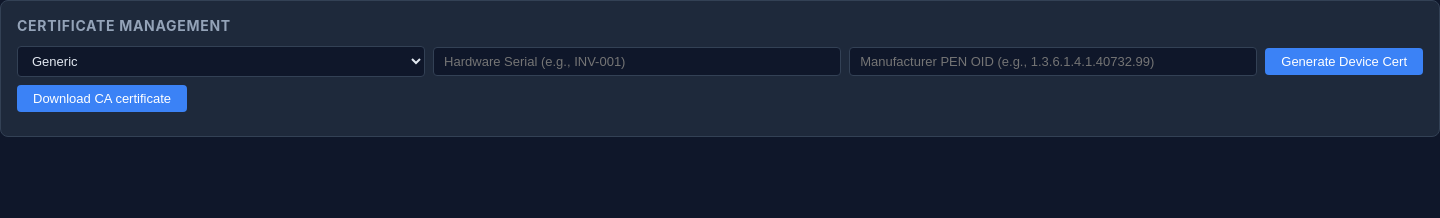
CertPanel › posts the typed hardware serial and renders the SFDI the server derived
Expected: the dropdown with id "deviceType" is enabled, [17,46,425,77]
In the field with id "hwSerial": (637, 62) [433,47,841,76], type "PW-INV-001"
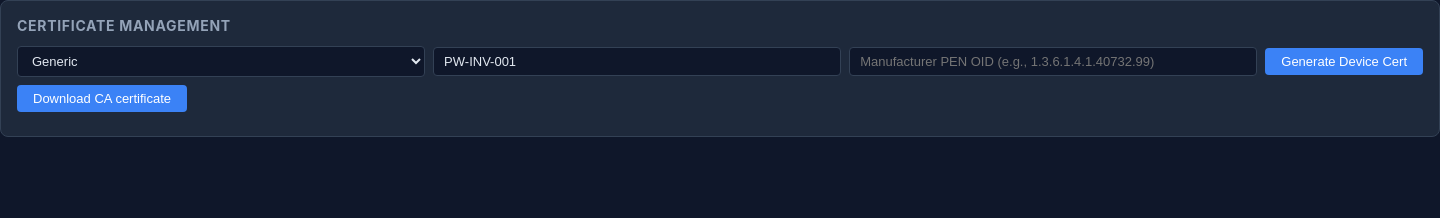
In the field with id "hwType": (1053, 62) [849,47,1257,76], type "1.3.6.1.4.1.40732.99"
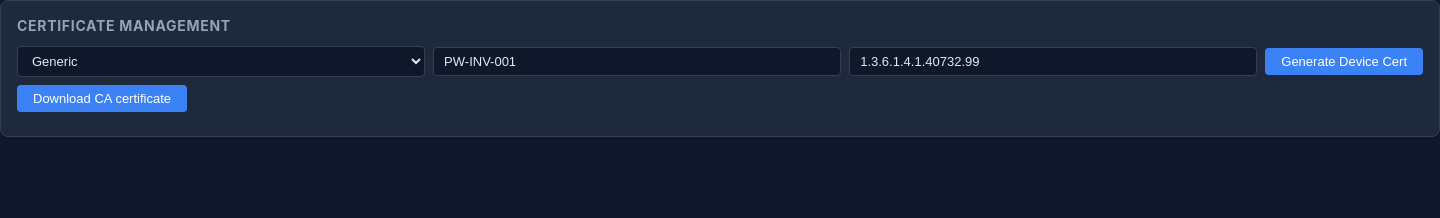
Click the button "Generate Device Cert": (1344, 62) [1265,48,1423,75]
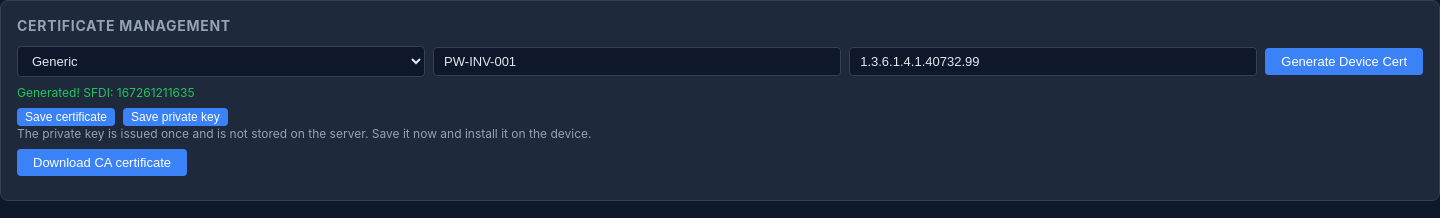
Expected: the text with id "certResult" reads "Generated! SFDI: 167261211635", [17,85,195,100]
